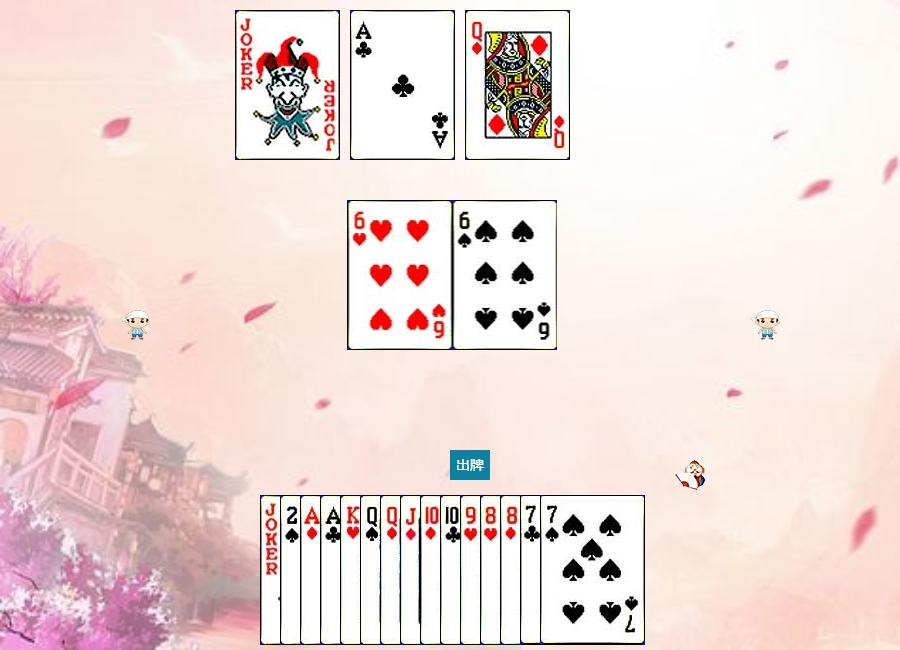10~1: (420, 495, 525, 645)
10~2: (440, 495, 545, 645)
11~1: (400, 495, 505, 645)
12~1: (465, 10, 570, 160), (380, 495, 485, 645)
12~4: (360, 495, 465, 645)
13~3: (340, 495, 445, 645)
14~1: (300, 495, 405, 645)
14~2: (350, 10, 455, 160), (320, 495, 425, 645)
15~4: (280, 495, 385, 645)
18~4: (235, 10, 340, 160), (260, 495, 365, 645)
6~3: (348, 200, 453, 350)
6~4: (453, 200, 558, 350)
7~2: (520, 495, 625, 645)
7~4: (540, 495, 645, 645)
8~1: (500, 495, 605, 645)
8~3: (480, 495, 585, 645)
9~3: (460, 495, 565, 645)
